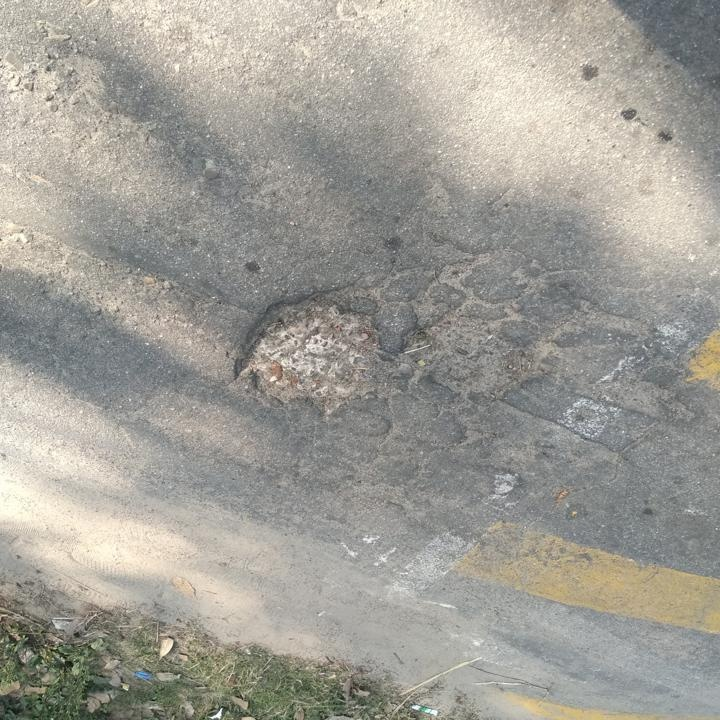pothole: (226, 288, 393, 418), (396, 308, 554, 403)
